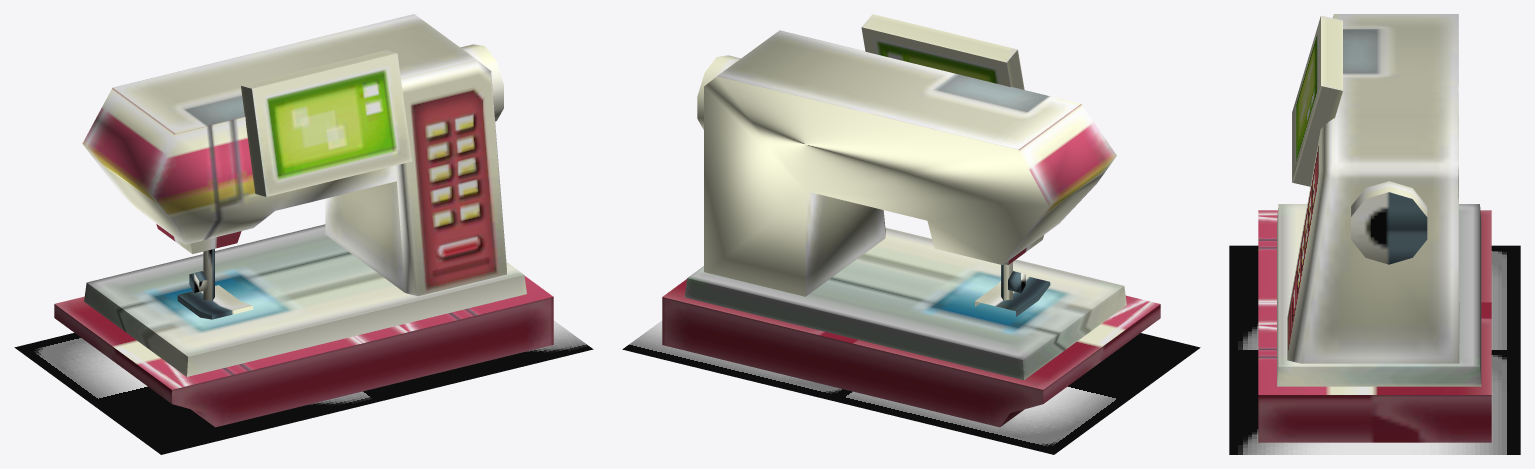
File: robj_t_hightech.dae
The picture shows the model from 3 angles, left to right: view 1: azimuth 30°, elevation 25°; view 2: azimuth 150°, elevation 25°; view 3: azimuth 270°, elevation 25°; orthographic projection.
Visible parts, largest first — view 1: robj_t_hightech; view 2: robj_t_hightech; view 3: robj_t_hightech.
Boxes of the visible parts, x1=… form: robj_t_hightech: x1=14, y1=14, x2=593, y2=454; robj_t_hightech: x1=622, y1=14, x2=1200, y2=454; robj_t_hightech: x1=1229, y1=14, x2=1520, y2=454.
Bounding box in the file's own units: 68 × 44.9 × 40.
Materials: 2 (2 with a texture image).
